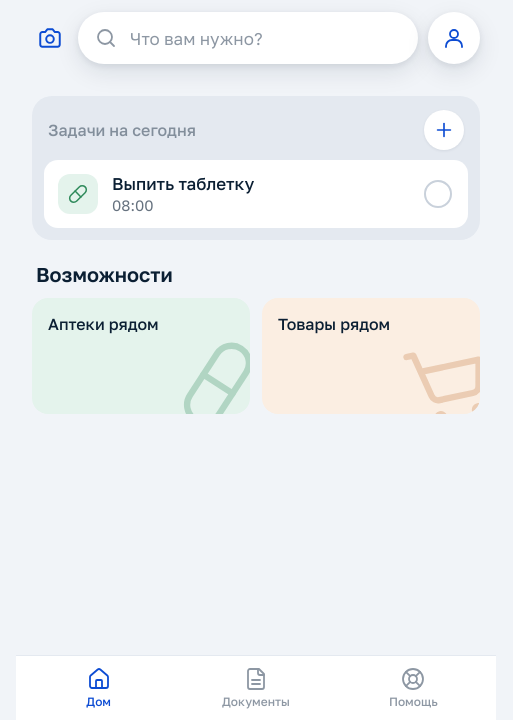
Test: App › поиск лекарства открывает цены в аптеках, крестик — все аптеки
Step 1. Type "где купить нурофен" into the field labelled "Что вам нужно?" → (265, 38), box top-left (128, 12), bottom-right (402, 64)
Then press Enter
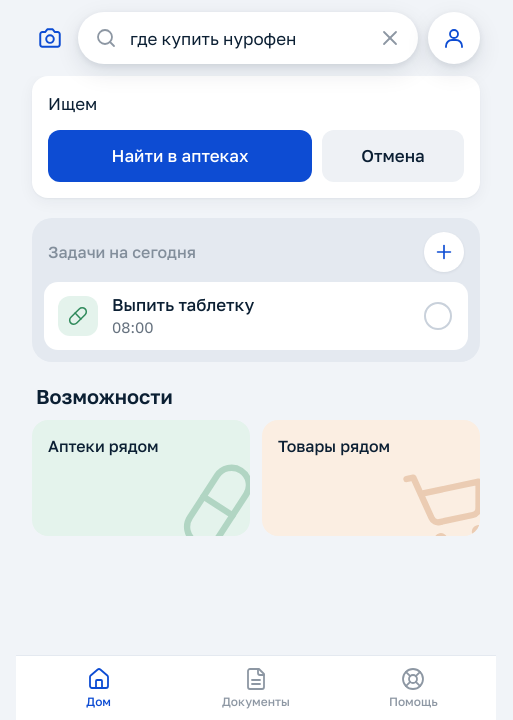
Step 2. Click the button "Найти в аптеках" → (180, 156), box top-left (48, 130), bottom-right (312, 182)
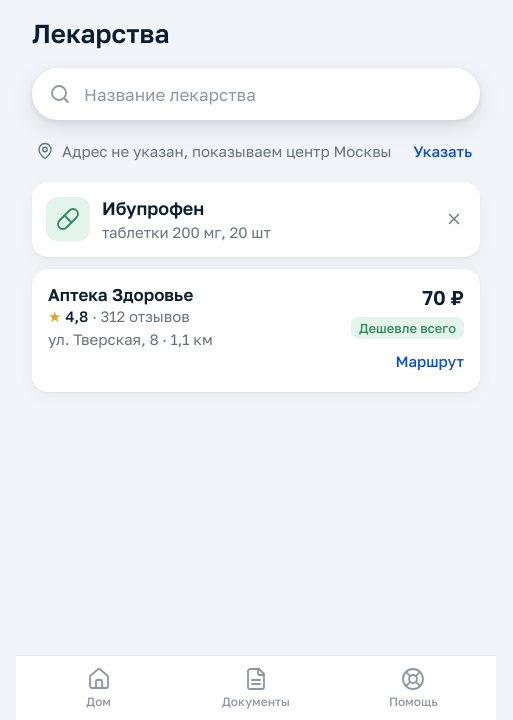
Now the text "70 ₽" is shown, box top-left (422, 283), bottom-right (464, 311)
Now the text "Ибупрофен" is shown, box top-left (102, 197), bottom-right (204, 219)
Step 3. Click the button named "Показать все аптеки" → (454, 220), box top-left (434, 200), bottom-right (474, 240)
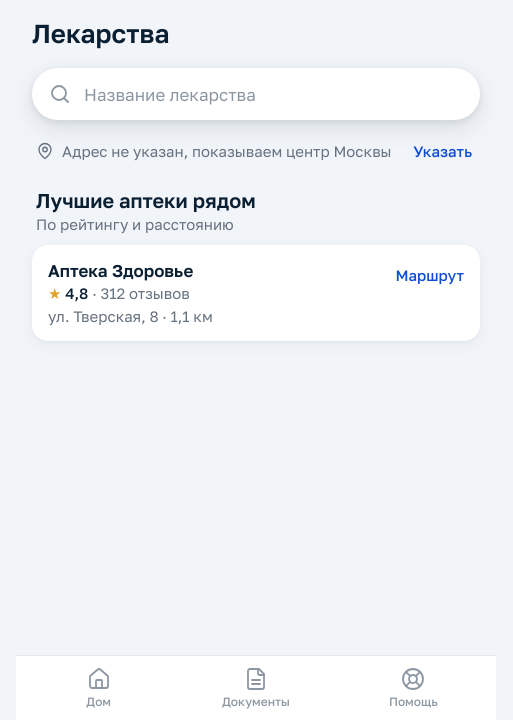
Now the heading "Лучшие аптеки рядом" is shown, box top-left (36, 188), bottom-right (256, 212)
